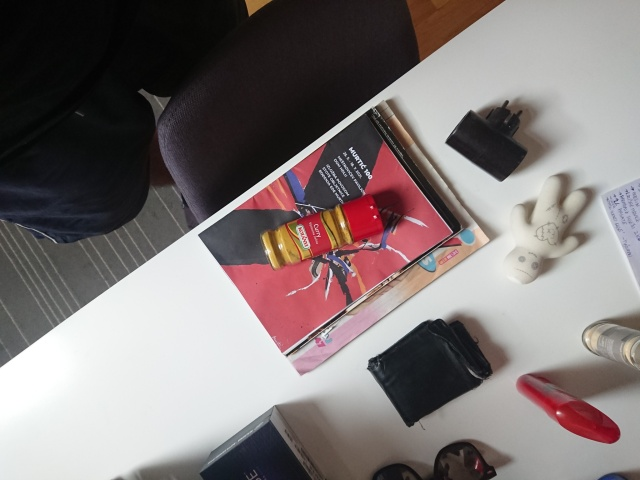Kotanyi Curry Spices Mix 70g: (257, 191, 386, 273)
